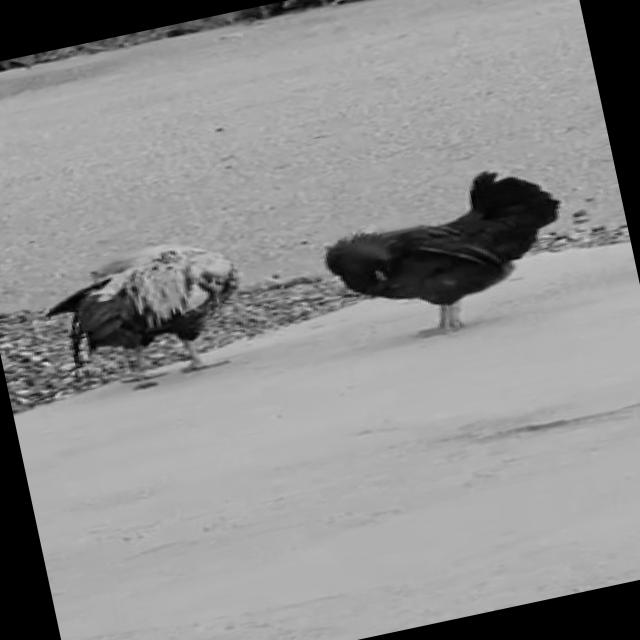self preening: (310, 152, 587, 362), (45, 226, 264, 410)
